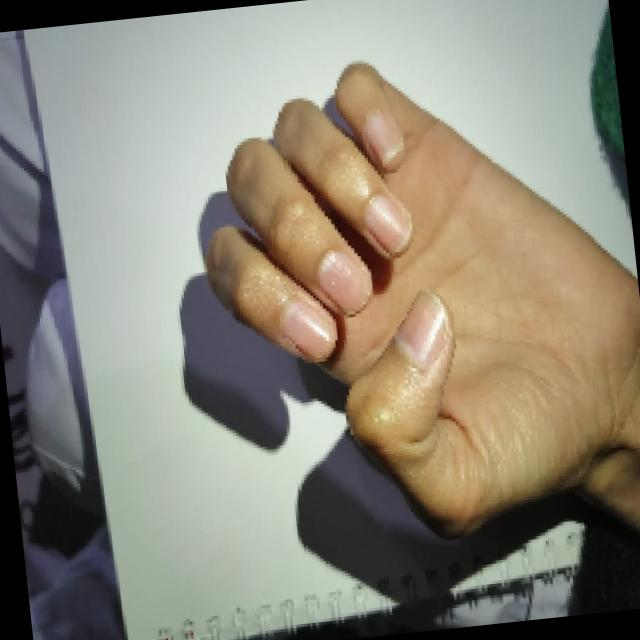Nail: (393, 289, 450, 368), (316, 250, 370, 315), (281, 300, 336, 361), (363, 193, 411, 255), (361, 110, 402, 164)
